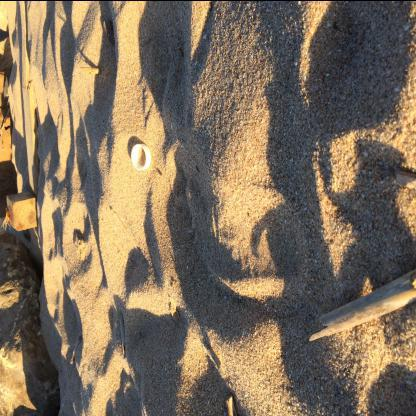plastik: (131, 142, 153, 172)
